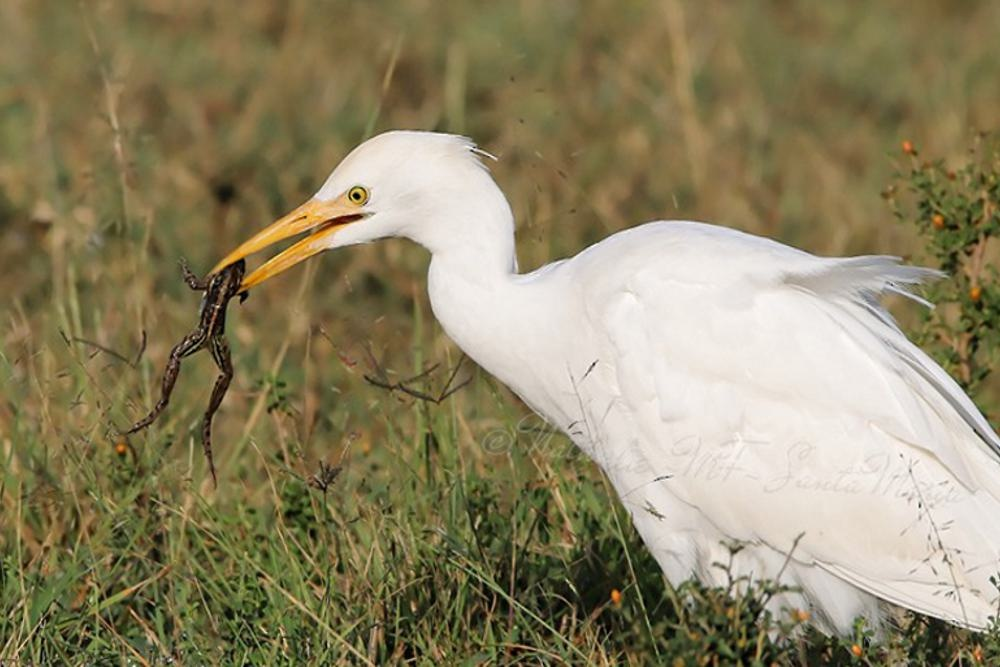egret: (209, 121, 1000, 618)
